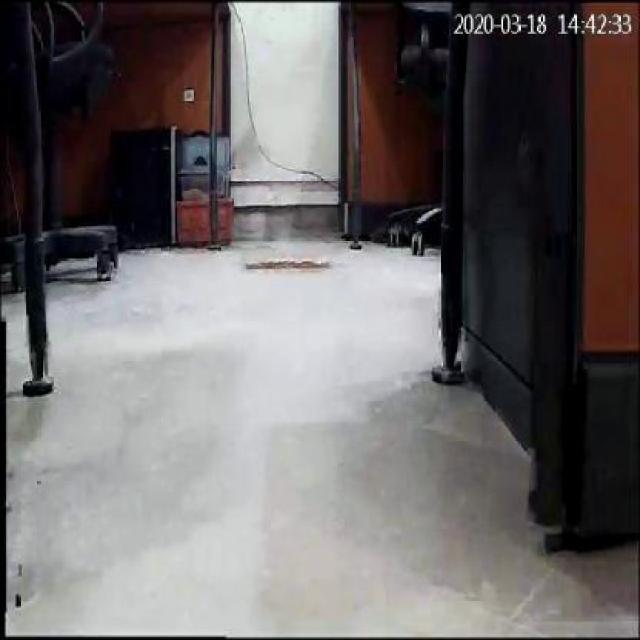spill: (246, 257, 332, 268)
